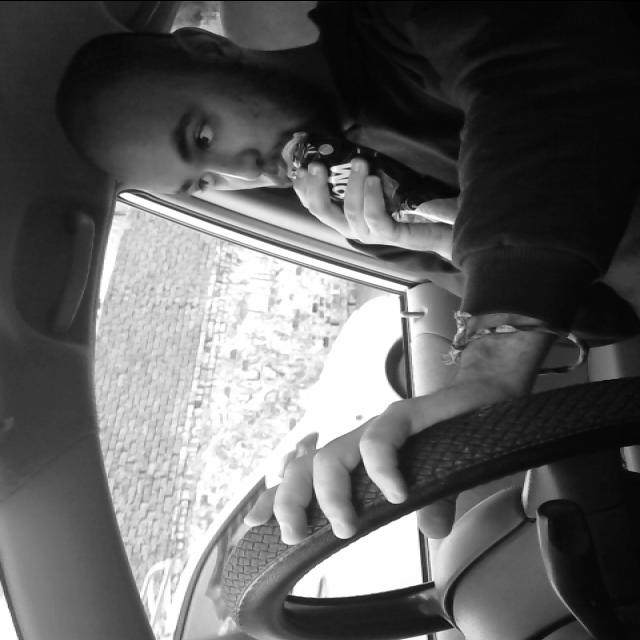eating: (269, 121, 475, 246)
